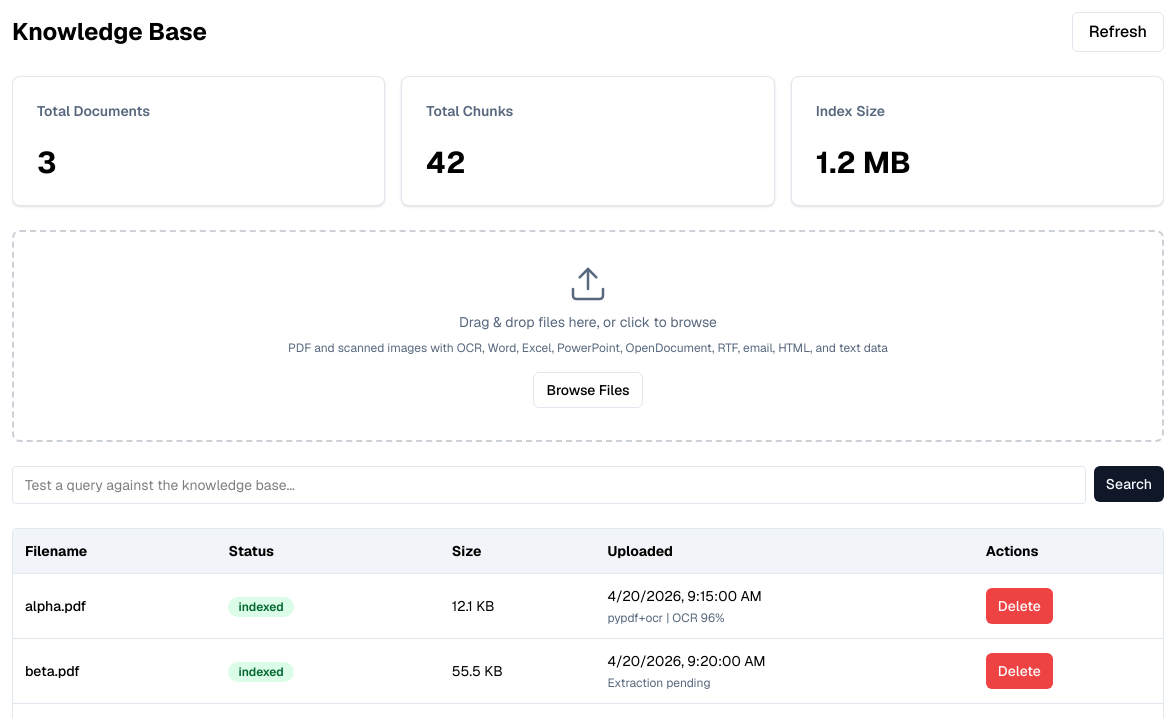
Test case: KnowledgeBase › deletes only the targeted row and does NOT wipe the list (TC_005)
This screenshot has width=1176, height=718.
Expected: the text "alpha.pdf" is shown, x1=13 y1=574 x2=216 y2=638
Expected: the text "beta.pdf" is shown, x1=13 y1=638 x2=216 y2=704
Click the button "Delete" in the row of "alpha.pdf" at (1019, 606), box x1=986 y1=588 x2=1053 y2=624
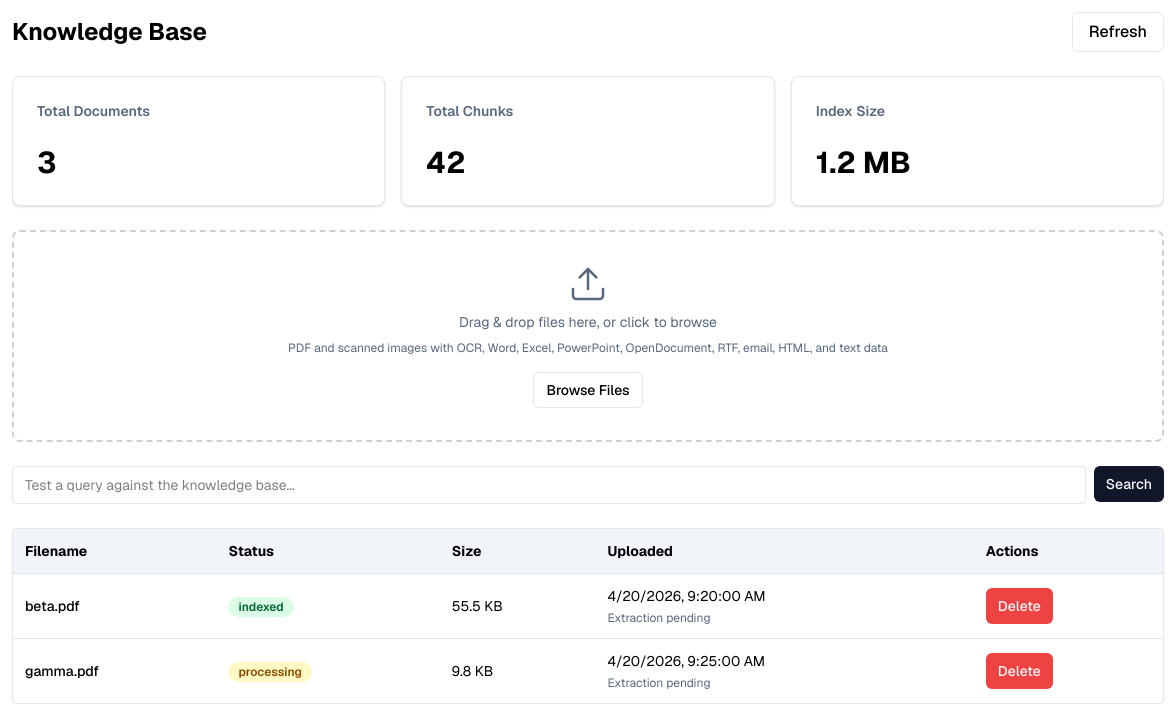
Expected: the text "beta.pdf" is shown, x1=13 y1=574 x2=216 y2=638
Result: the text "alpha.pdf" is gone
